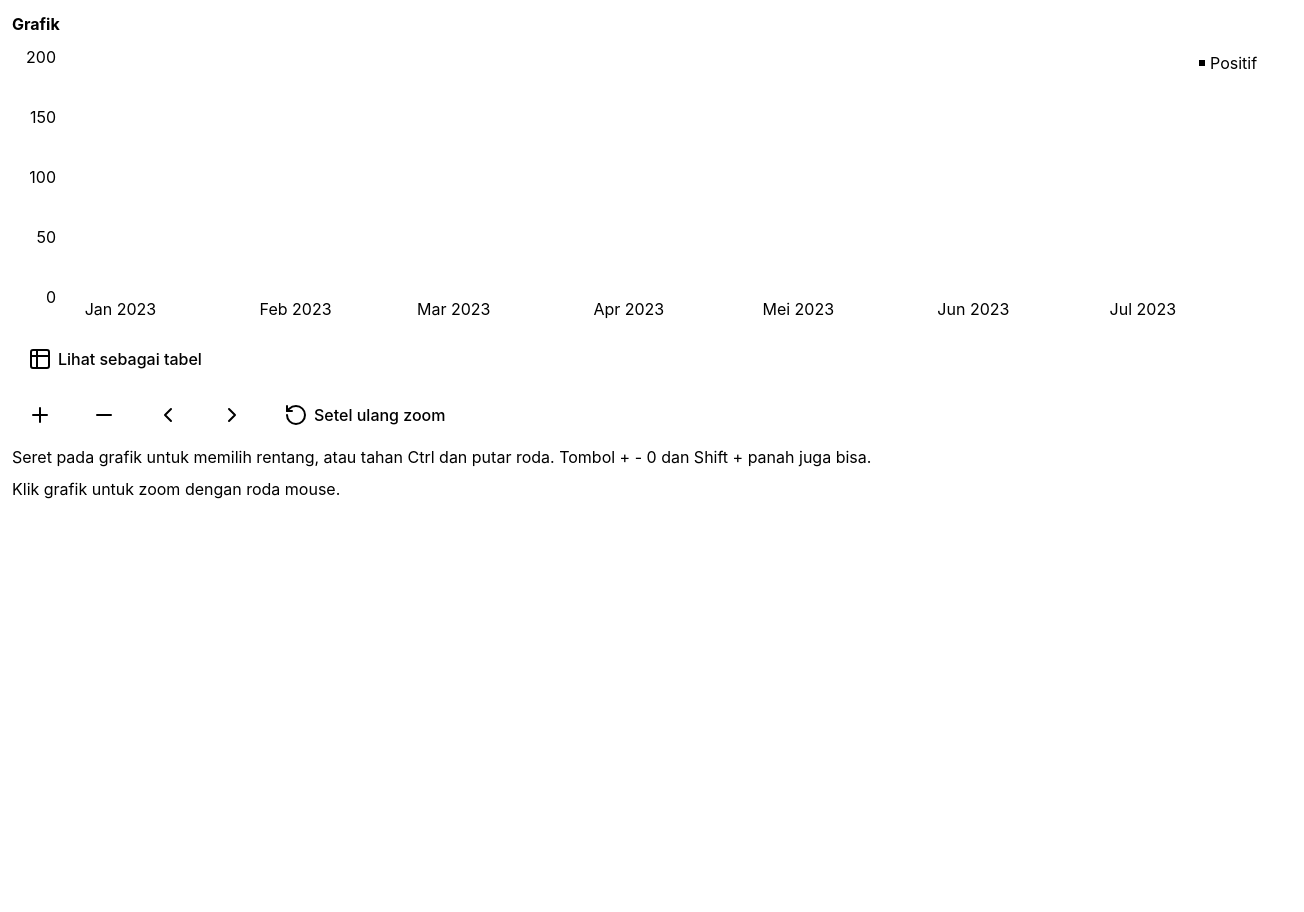
zoom on TimeSeriesChart › a new range from the page resets the zoom, and the table says it shows the zoomed range
Click the button named "Perbesar".
click(40, 415)  # box [12,393,68,437]
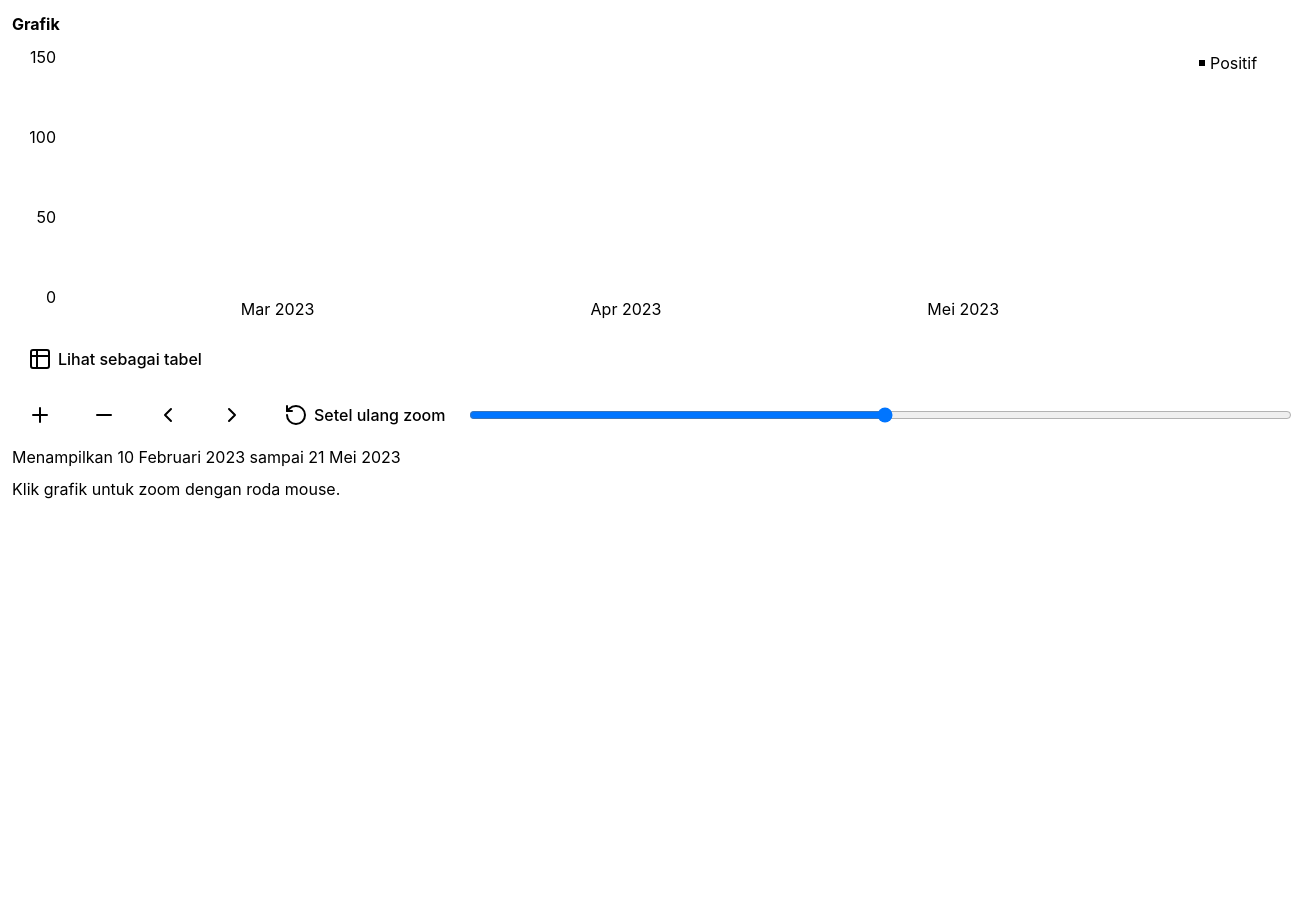
Click the button "Lihat sebagai tabel".
click(115, 359)  # box [12,337,218,381]
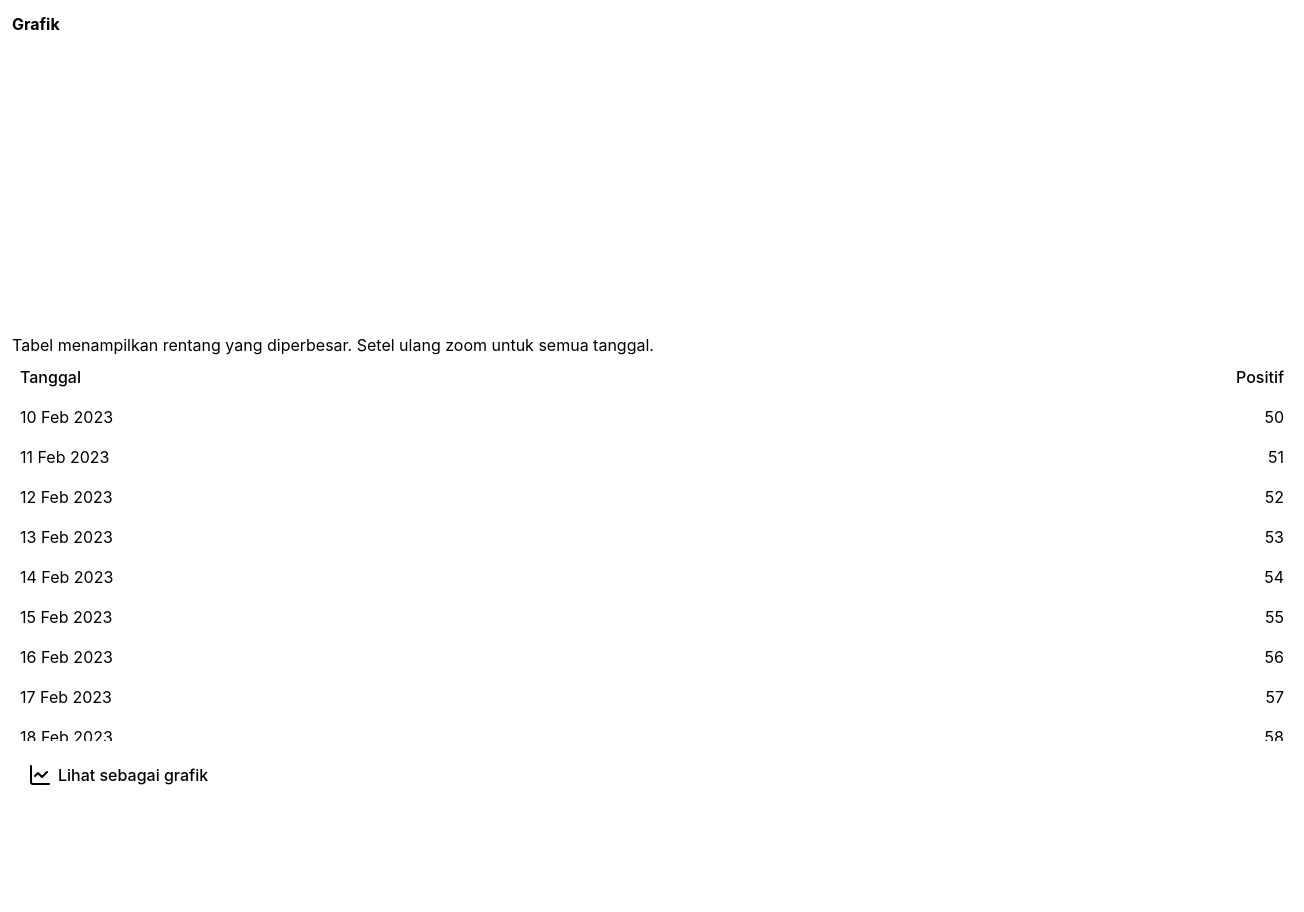
Expected: the text with test id "table-zoom-note" is shown, [12,335,654,355]
